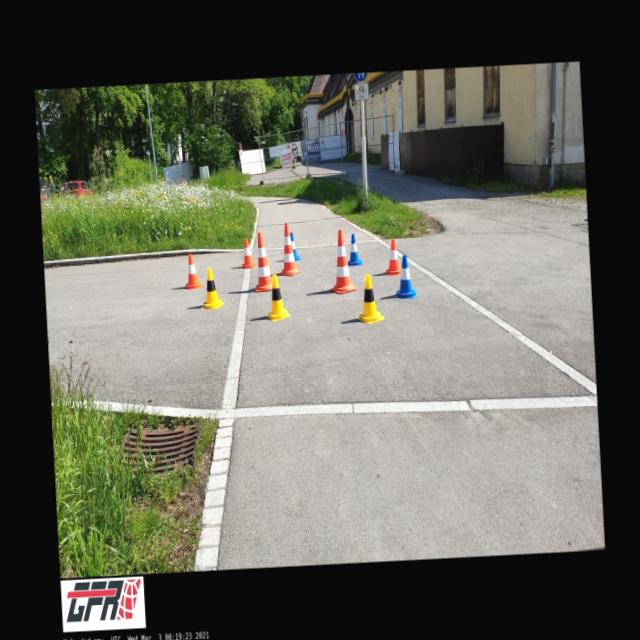blue_cone: (392, 253, 418, 300), (347, 232, 362, 266), (290, 232, 301, 261)
large_orange_cone: (328, 230, 357, 294), (276, 222, 302, 277), (252, 232, 272, 292)
orange_cone: (183, 253, 204, 290), (383, 238, 402, 276), (240, 238, 256, 268)
yellow_cone: (354, 273, 385, 324), (264, 273, 290, 321), (199, 267, 225, 309)
